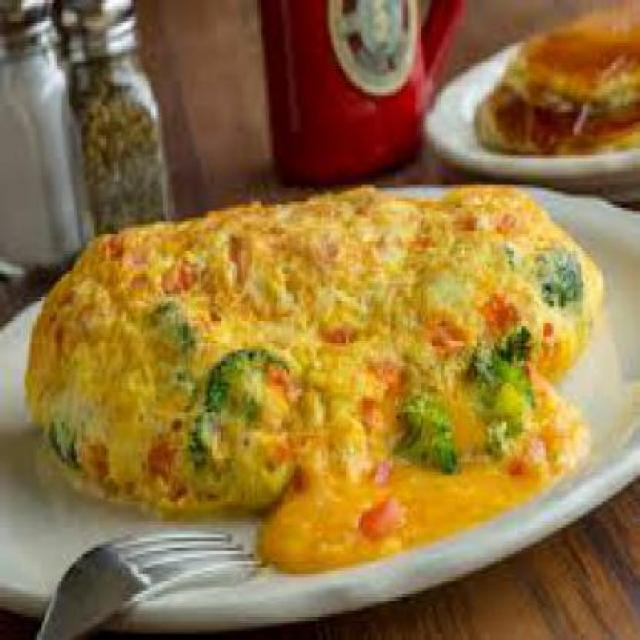omelette: (28, 178, 600, 554)
pancakes: (470, 10, 638, 152)
